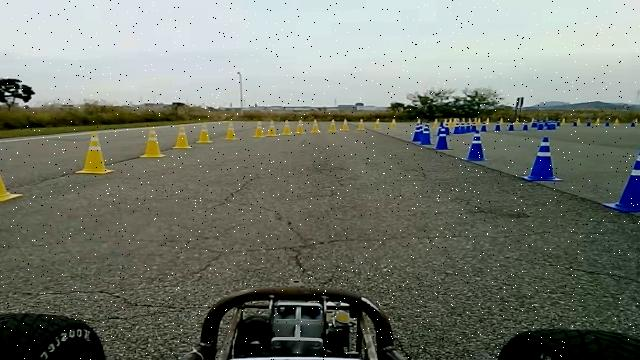blue cone: (602, 147, 640, 213), (522, 136, 564, 181), (463, 131, 491, 162), (434, 127, 453, 150), (420, 123, 433, 145), (411, 124, 424, 142)
yellow cone: (76, 131, 116, 174), (0, 139, 23, 202), (140, 127, 167, 158), (172, 124, 193, 148), (196, 122, 214, 143), (224, 120, 239, 140), (253, 120, 266, 138), (266, 120, 279, 136), (294, 119, 306, 134), (310, 118, 322, 132), (282, 119, 292, 135), (328, 118, 339, 132), (341, 118, 351, 131), (356, 117, 366, 130)
